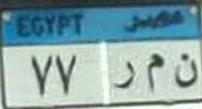7: (55, 52, 79, 96), (30, 53, 53, 98)
meem: (145, 51, 165, 91)
noon: (171, 51, 199, 91)
raa: (112, 59, 137, 94)
